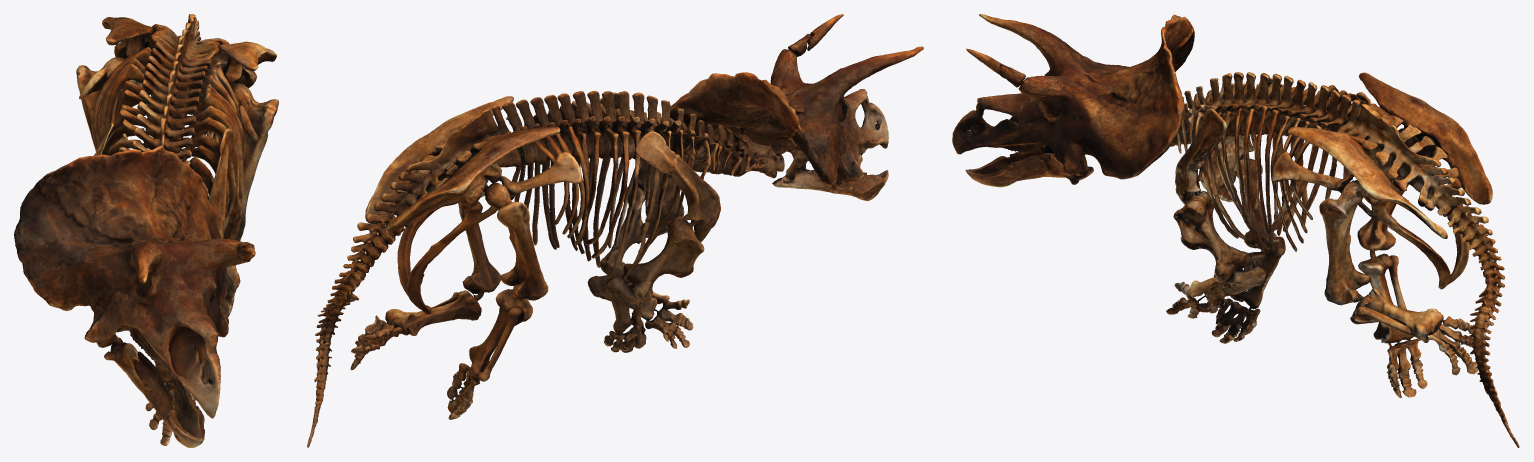
3 renders of one model, left to right at view 1: azimuth 30°, elevation 25°; view 2: azimuth 150°, elevation 25°; view 3: azimuth 270°, elevation 25°, orthographic. The views are drawn at different scales.
Parts seen in each view (by area): view 1: Triceratops_horridus_Marsh_1889-150k; view 2: Triceratops_horridus_Marsh_1889-150k; view 3: Triceratops_horridus_Marsh_1889-150k.
Boxes of the visible parts, left/top/right/bottom form: Triceratops_horridus_Marsh_1889-150k: left=14, top=14, right=278, bottom=447; Triceratops_horridus_Marsh_1889-150k: left=307, top=14, right=923, bottom=447; Triceratops_horridus_Marsh_1889-150k: left=952, top=14, right=1519, bottom=447.
Bounding box in the file's own units: 3.23 × 2.71 × 4.64.
1 material, 1 textured.
